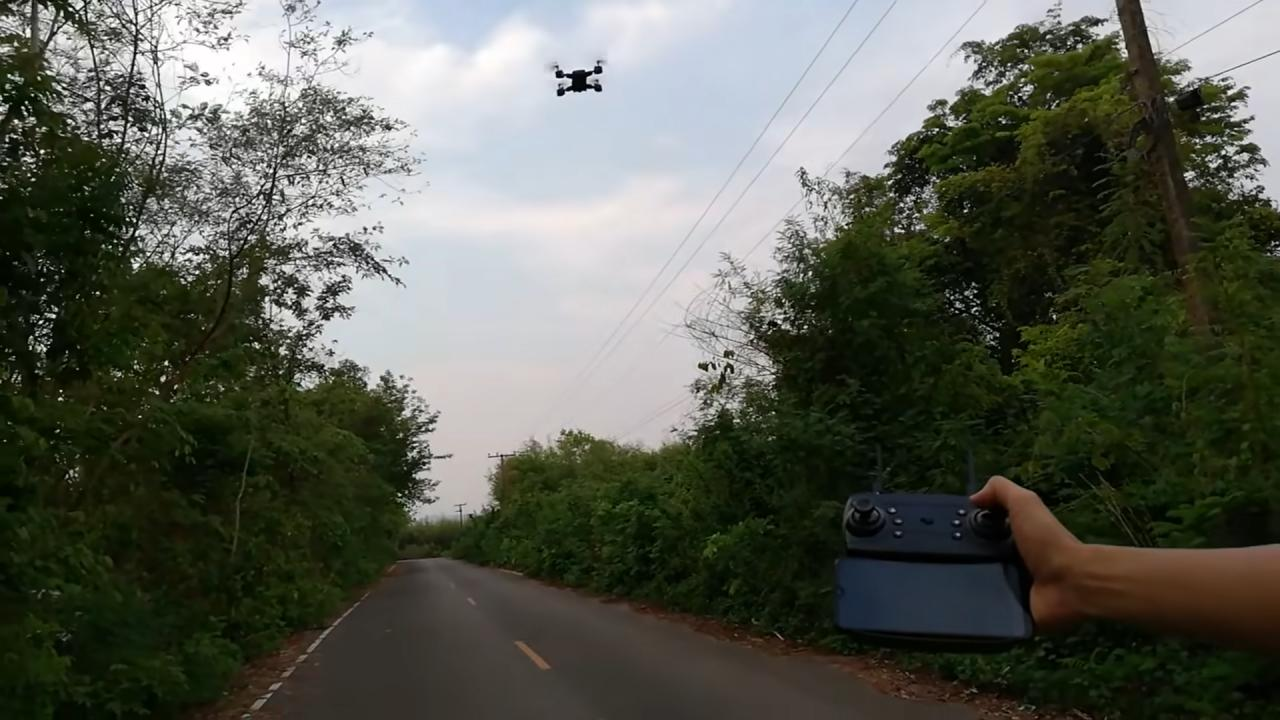Drone: (538, 47, 619, 109)
